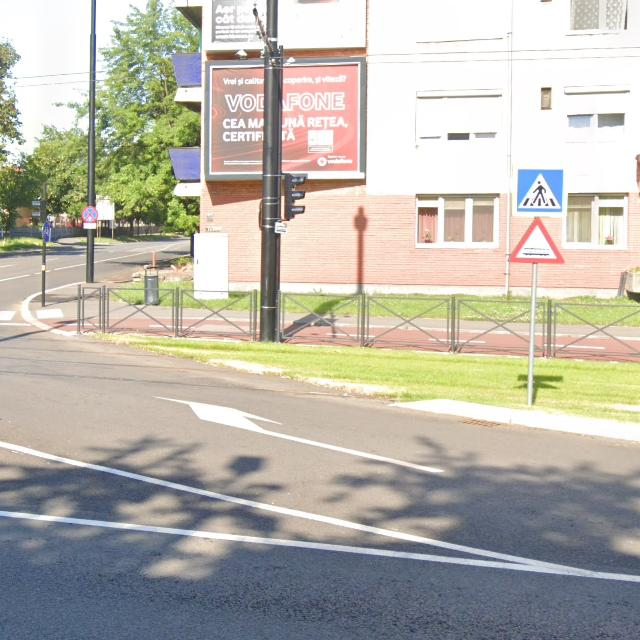forb_stopping: (82, 206, 98, 224)
warn_crosswalk: (514, 168, 565, 218)
warn_tram: (507, 217, 565, 264)
